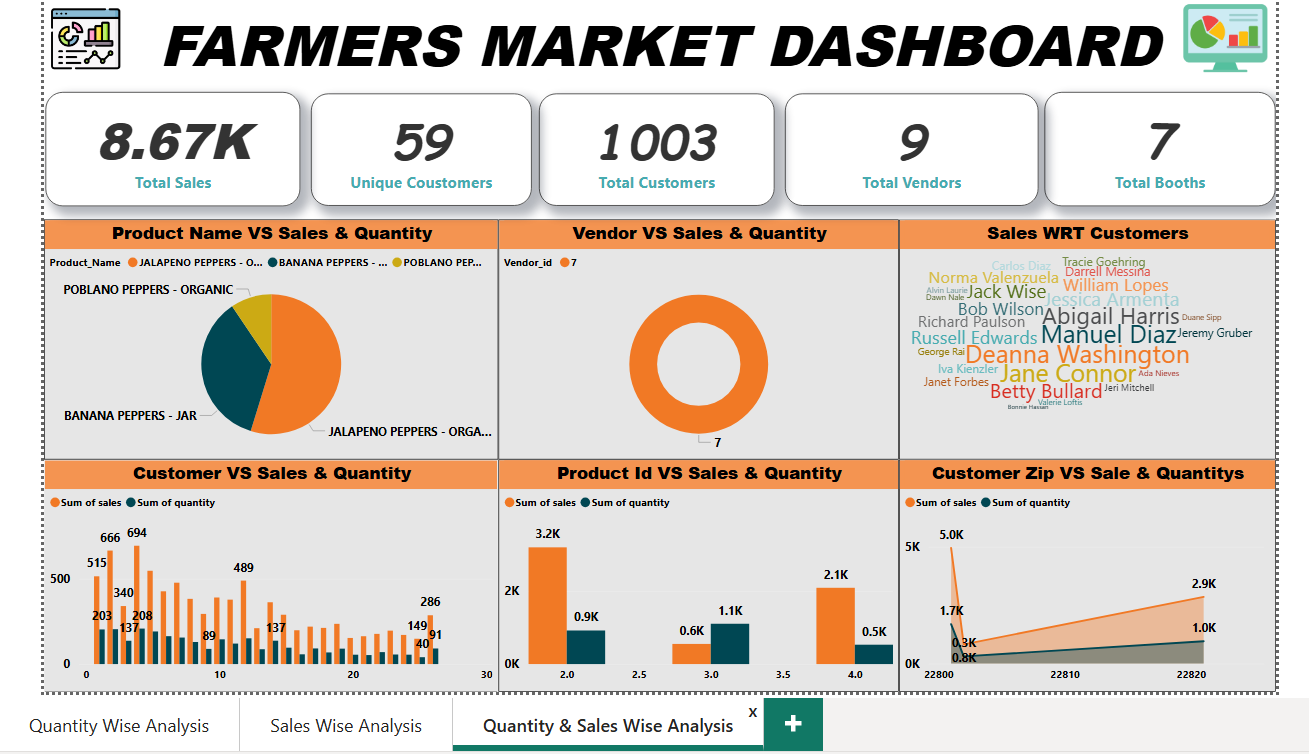

The page's visual inventory and layout, read from the dashboard file:
{"tool":"powerbi","page":{"name":"Quantity & Sales Wise Analysis","canvas":[1280,720],"ordinal":2},"visuals":[{"type":"clusteredColumnChart","title":"Customer VS Sales &  Quantity","fields":{"Category":["customer.customer_id"],"Y":["customer_purchases.sales","customer_purchases.quantity"]},"box":[0,478.4,472.2,241.6],"z":0},{"type":"clusteredColumnChart","title":"Product Id VS Sales &  Quantity","fields":{"Category":["sample_products.product_id"],"Y":["customer_purchases.sales","customer_purchases.quantity"]},"box":[472.2,478.4,416.1,241.6],"z":1000},{"type":"pieChart","title":"Product Name VS Sales & Quantity","fields":{"Category":["sample_products.product_name"],"Y":["customer_purchases.sales"]},"box":[0,229.1,472.2,249.4],"z":2000},{"type":"donutChart","title":"Vendor VS Sales & Quantity","fields":{"Category":["vendor.vendor_id"],"Y":["customer_purchases.sales"]},"box":[472.2,229.1,416.1,249.4],"z":3000},{"type":"textbox","box":[0,0,1279.5,98.2],"z":4000},{"type":"image","box":[0,0,87.3,82.6],"z":5000},{"type":"image","box":[1175.1,0,104.4,81],"z":6000},{"type":"card","fields":{"Values":["customer_purchases.total_sales"]},"box":[1.6,96.6,264.9,118.4],"z":7000},{"type":"card","fields":{"Values":["customer_purchases.customer_id"]},"box":[277.4,98.2,229.1,116.9],"z":8000},{"type":"card","fields":{"Values":["customer_purchases.customer_id"]},"box":[514.3,98.2,244.7,116.9],"z":9000},{"type":"card","fields":{"Values":["vendor.vendor_id"]},"box":[769.9,98.2,263.4,116.9],"z":10000},{"type":"card","fields":{"Values":["vendor_booth_assignments.booth_number"]},"box":[1039.5,96.6,240,118.4],"z":11000},{"type":"areaChart","title":"Customer Zip VS Sale &  Quantitys","fields":{"Category":["customer.customer_zip"],"Y":["customer_purchases.sales","customer_purchases.quantity"]},"box":[888,479,391,241],"z":13000},{"type":"WordCloud1447959067750","title":"Sales WRT Customers","fields":{"Category":["customer.Customer_Full_name"],"Values":["customer_purchases.Total_quantity"]},"box":[888,229,391,249],"z":13001}]}

Visuals, with their boxes on the page's 1280x720 design canvas (x1, y1, x2, y2). These are canvas units, not pixel positions in the 1309x754 screenshot, which may show the page scaled, cropped or inside an application window:
"Customer VS Sales &  Quantity" clusteredColumnChart: Rect(0, 478, 472, 720)
"Product Id VS Sales &  Quantity" clusteredColumnChart: Rect(472, 478, 888, 720)
"Product Name VS Sales & Quantity" pieChart: Rect(0, 229, 472, 478)
"Vendor VS Sales & Quantity" donutChart: Rect(472, 229, 888, 478)
textbox: Rect(0, 0, 1280, 98)
image: Rect(0, 0, 87, 83)
image: Rect(1175, 0, 1280, 81)
card - customer_purchases.total_sales: Rect(2, 97, 266, 215)
card - customer_purchases.customer_id: Rect(277, 98, 506, 215)
card - customer_purchases.customer_id: Rect(514, 98, 759, 215)
card - vendor.vendor_id: Rect(770, 98, 1033, 215)
card - vendor_booth_assignments.booth_number: Rect(1040, 97, 1280, 215)
"Customer Zip VS Sale &  Quantitys" areaChart: Rect(888, 479, 1279, 720)
"Sales WRT Customers" WordCloud1447959067750: Rect(888, 229, 1279, 478)
